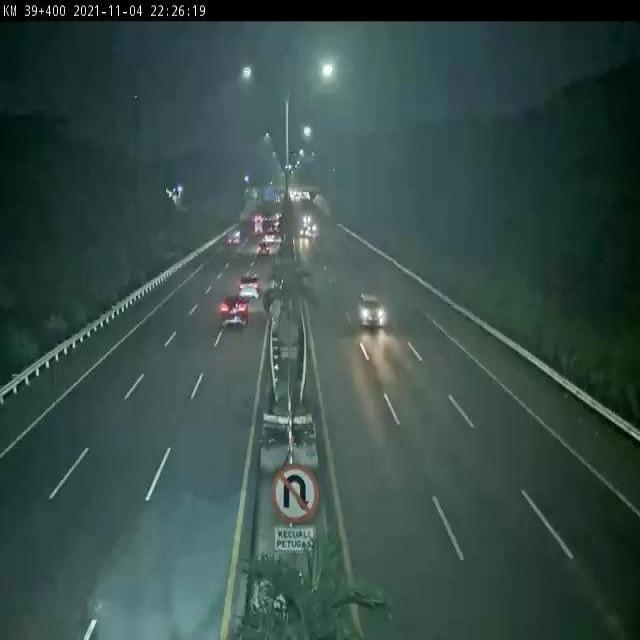car: (358, 292, 386, 333), (221, 295, 248, 329), (237, 276, 261, 297)
